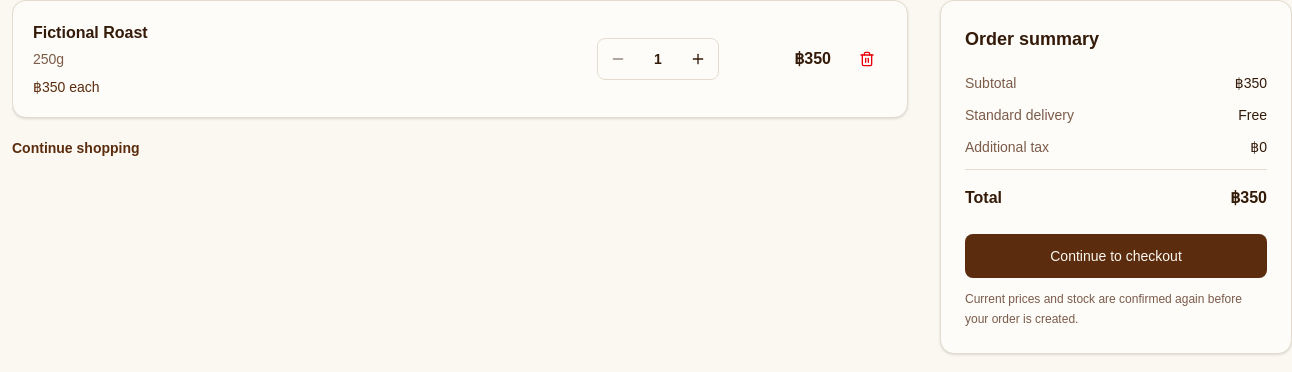
Scenario: CartPage › loads the cookie cart and replaces totals with the update response
expect the heading "Fictional Roast" is shown: met, box [33,21,148,45]
What coordinates should you click on to do the following:
click the button named "Increase Fictional Roast quantity"
I would click on:
 (698, 59)
Its box is [678,39,718,79].
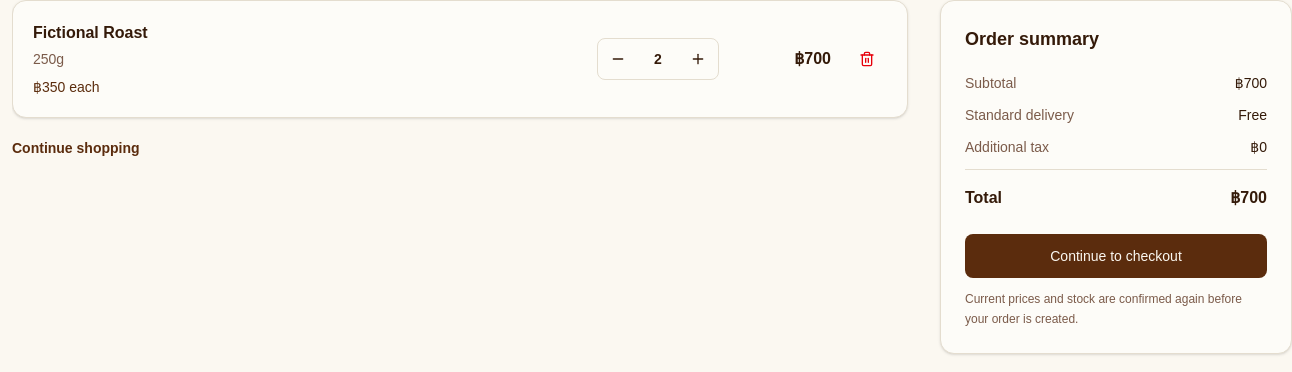
expect the text named "Fictional Roast quantity" reads "2": met, box [654,51,662,67]
expect the text "฿700" in the row of "250g" is shown: met, box [794,50,831,67]
